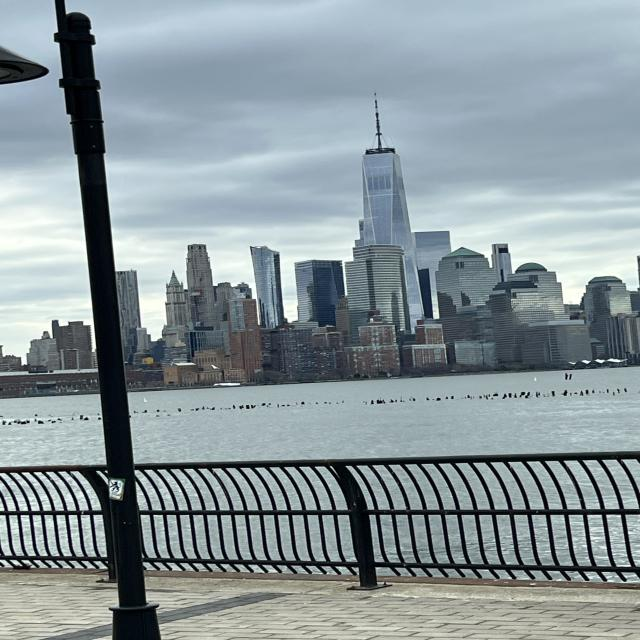WTC: (362, 94, 410, 246)
